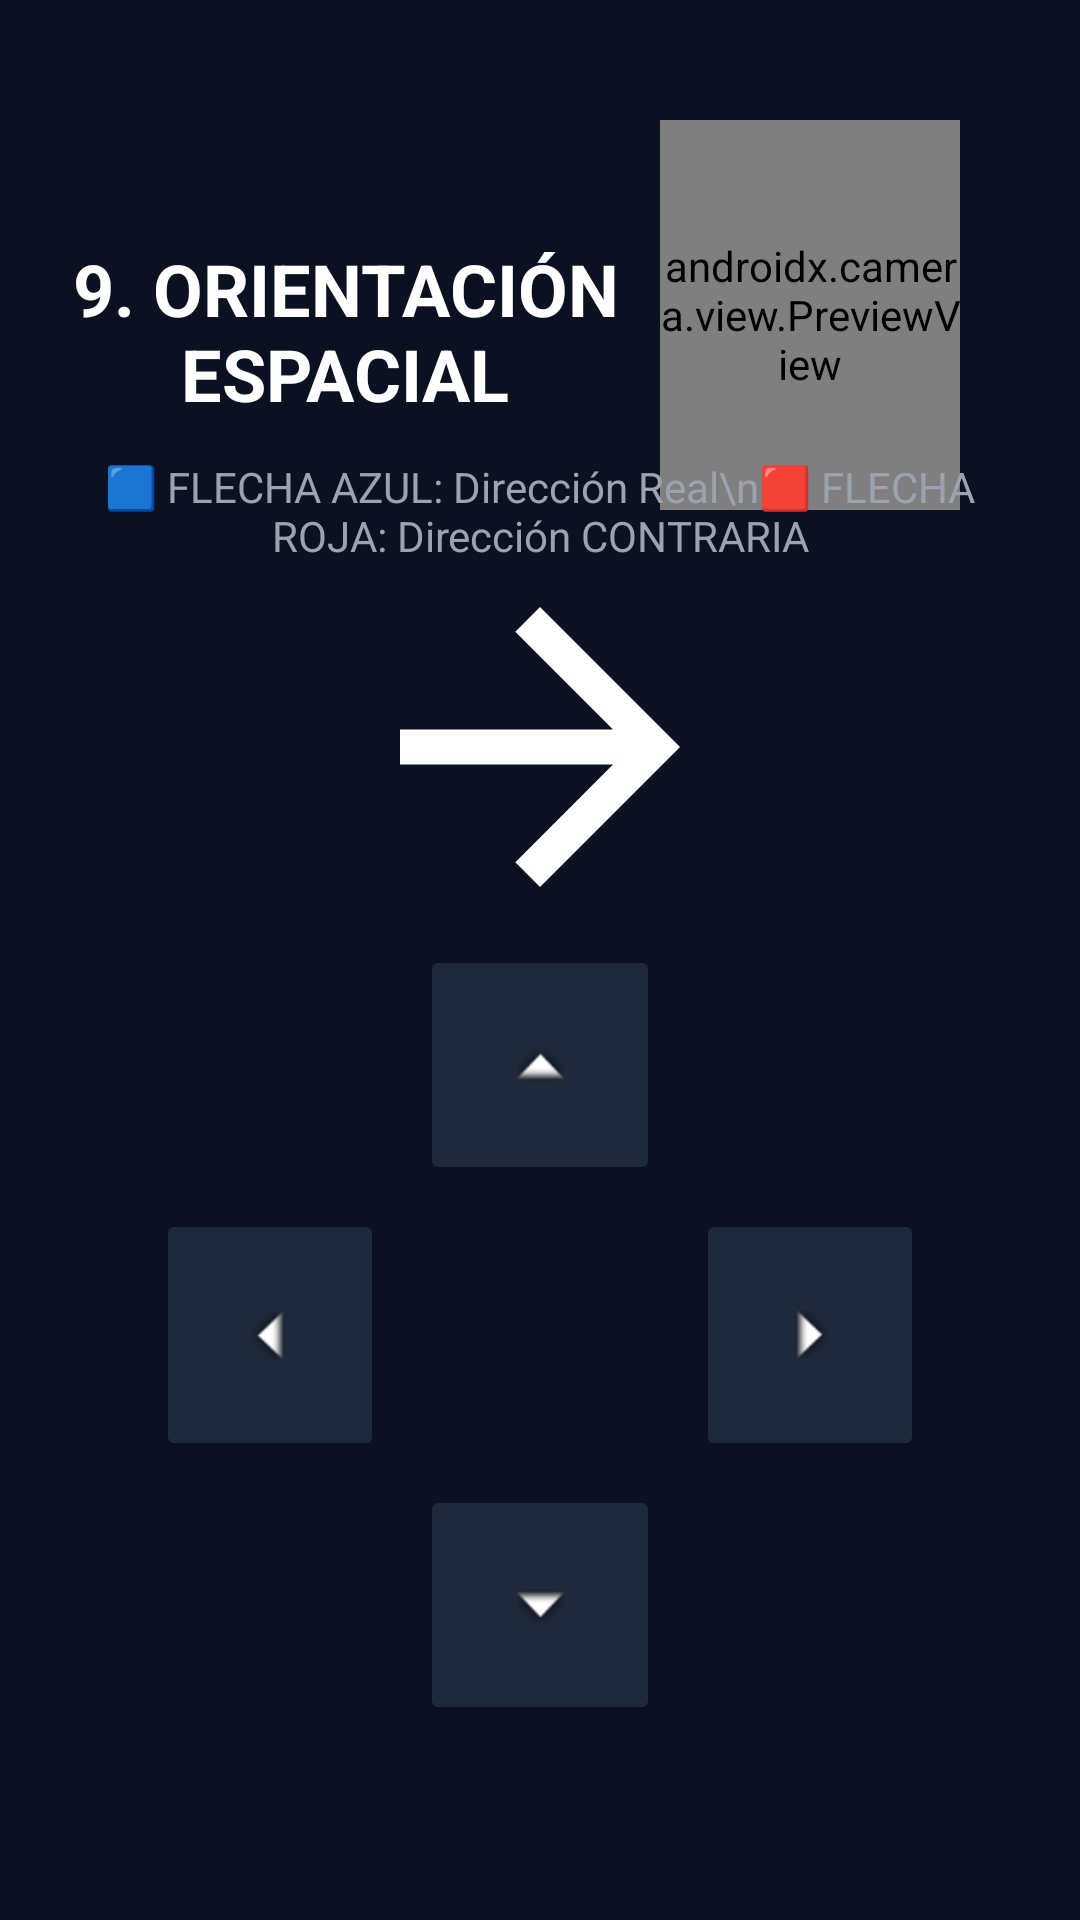

Icons on this 1080x1920 Android screen, each with the point to tap as [x,y]:
Abajo: [540,1605]
Arriba: [540,1065]
